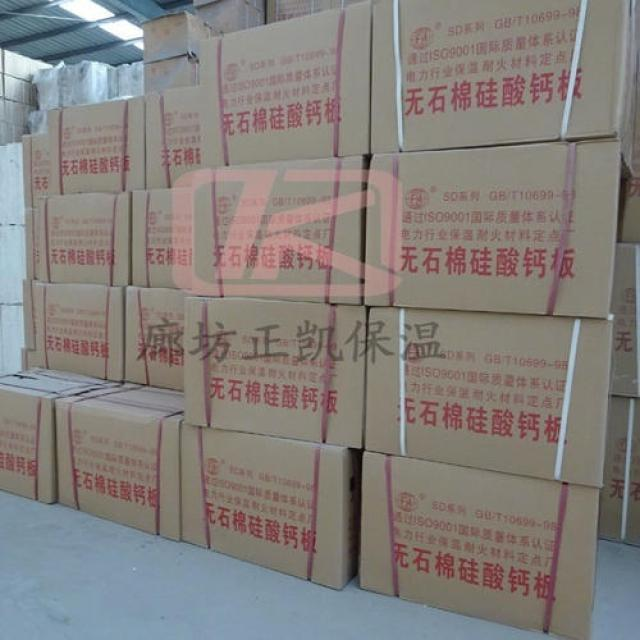box: (369, 0, 640, 178), (364, 137, 622, 319), (365, 307, 613, 489), (360, 452, 600, 639), (179, 422, 364, 590), (200, 0, 371, 166), (183, 297, 369, 448), (193, 156, 370, 305), (58, 381, 184, 543), (0, 367, 113, 503), (46, 96, 146, 196), (38, 191, 132, 287), (36, 283, 125, 383), (124, 285, 193, 390), (132, 186, 193, 289), (599, 396, 640, 548), (145, 84, 201, 188), (611, 243, 640, 399), (142, 12, 210, 63), (196, 1, 265, 36), (20, 132, 50, 207), (143, 56, 197, 93), (618, 178, 640, 243), (23, 280, 38, 351), (26, 207, 40, 280), (22, 352, 36, 371), (193, 1, 220, 8)
